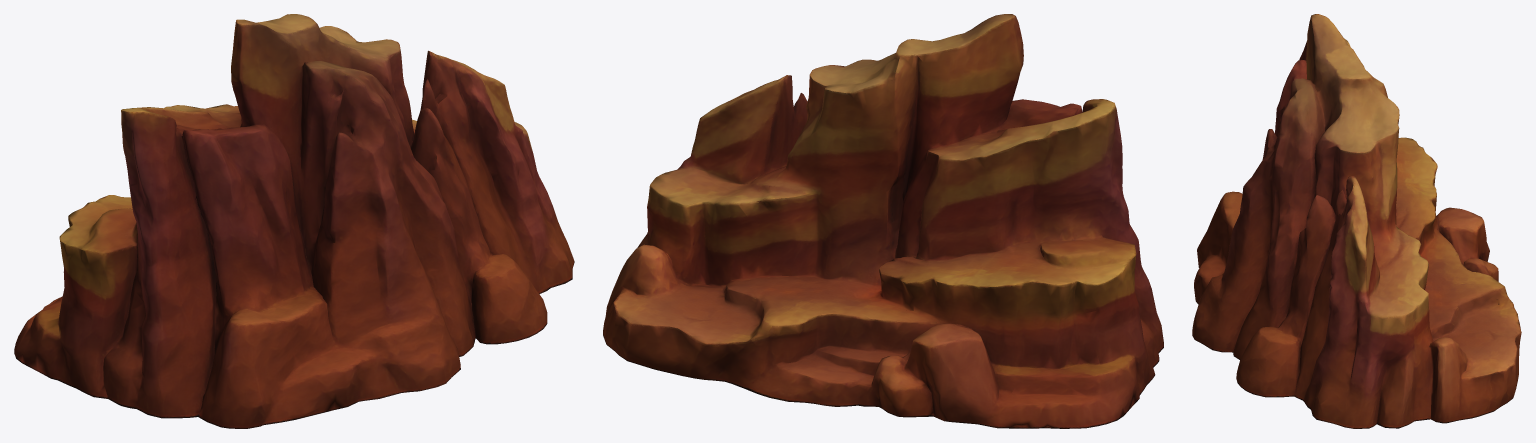
File: kit_demon_cliff_a.glb
3 renders of one model, left to right at view 1: azimuth 30°, elevation 25°; view 2: azimuth 150°, elevation 25°; view 3: azimuth 270°, elevation 25°, orthographic. The views are drawn at different scales.
Visible parts, largest first — view 1: kit_demon_cliff_a; view 2: kit_demon_cliff_a; view 3: kit_demon_cliff_a.
Boxes of the visible parts, x1,y1,x2,y2 form: kit_demon_cliff_a: [14, 14, 574, 428]; kit_demon_cliff_a: [603, 14, 1163, 428]; kit_demon_cliff_a: [1192, 14, 1521, 428].
Size of the model in its own units: 1 by 0.6165 by 0.6725.
Materials: 1 (1 with a texture image).
